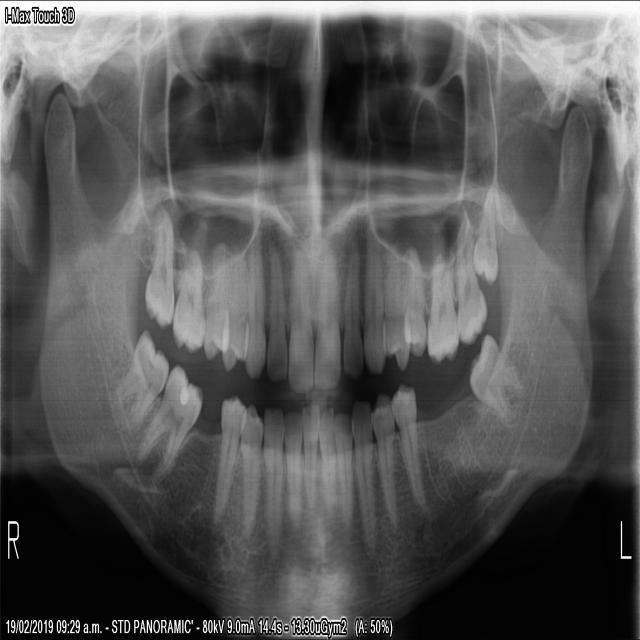LCD: (347, 393, 380, 556)
LCU: (362, 223, 386, 382)
LID: (327, 405, 356, 532), (313, 399, 338, 534)
LIU: (310, 231, 341, 392), (340, 226, 365, 382)
LMD: (465, 325, 525, 432)
LMU: (450, 207, 489, 353), (425, 238, 460, 367), (469, 181, 500, 290)
LPMD: (389, 375, 431, 516), (369, 386, 398, 529)
LPMU: (378, 235, 411, 372), (399, 234, 426, 362)
RCD: (258, 398, 285, 565)
RCU: (242, 230, 267, 388)
RID: (281, 403, 304, 534), (298, 395, 321, 511)
RIU: (283, 237, 313, 401), (263, 241, 287, 388)
RMD: (131, 357, 206, 497), (106, 319, 170, 443)
RMU: (141, 199, 174, 331), (170, 235, 205, 356)
RPMD: (208, 391, 247, 532), (237, 397, 265, 550)
RPMU: (218, 238, 250, 377), (199, 235, 229, 369)
